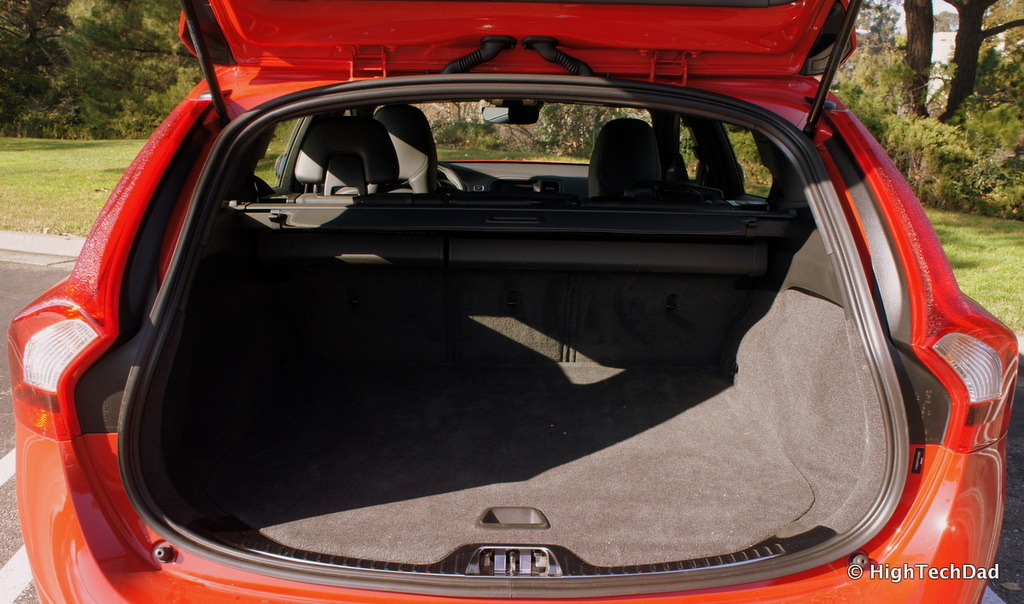Car: (4, 0, 1023, 603)
